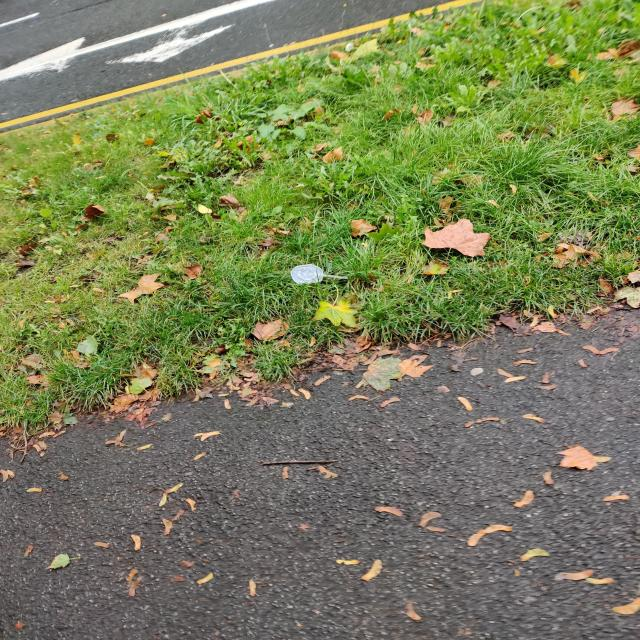litter: (286, 258, 364, 290)
